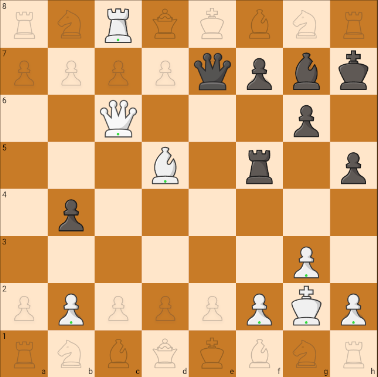bb: (287, 50, 326, 93)
bk: (332, 48, 374, 93)
bp: (50, 194, 90, 236), (287, 99, 326, 141), (335, 149, 371, 187), (245, 55, 278, 93)
bq: (193, 50, 232, 90)
br: (240, 147, 282, 187)
wb: (148, 145, 185, 185)
wk: (285, 283, 328, 327)
wp: (52, 287, 88, 327), (244, 288, 276, 327), (340, 290, 371, 328), (290, 244, 322, 279)
wq: (97, 99, 140, 141)
wr: (99, 4, 137, 46)
